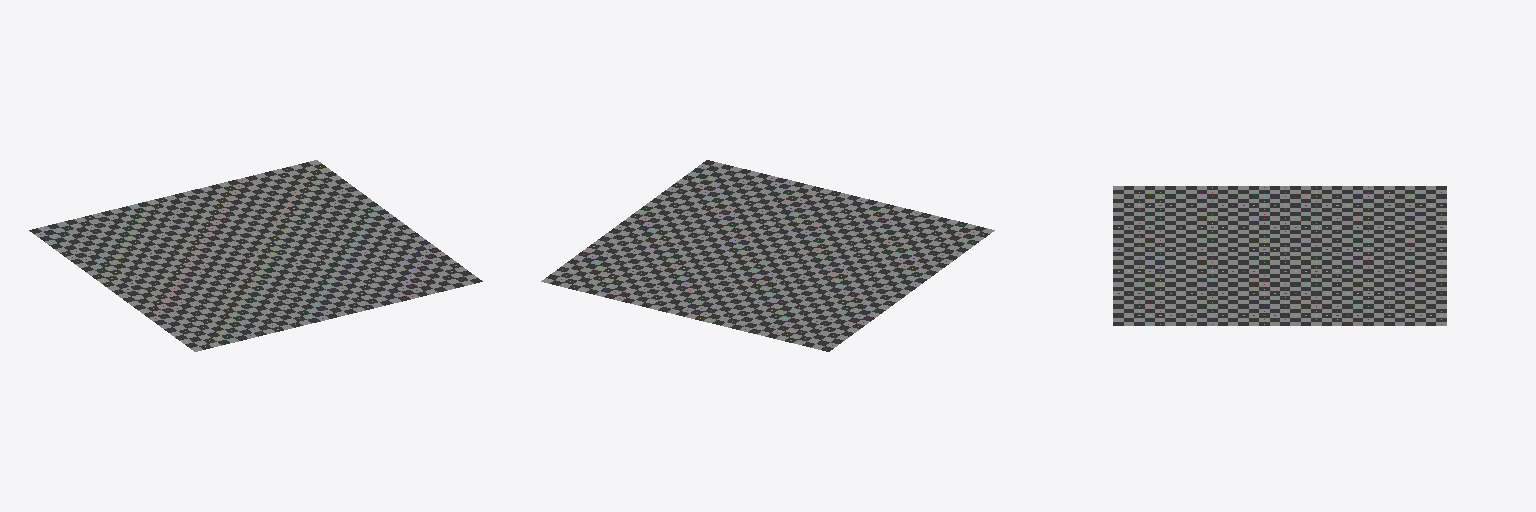
The picture shows the model from 3 angles: view 1: azimuth 30°, elevation 25°; view 2: azimuth 150°, elevation 25°; view 3: azimuth 270°, elevation 25°; orthographic projection.
Parts seen in each view (by area): view 1: Plane; view 2: Plane; view 3: Plane.
Part boxes in pixels (x1,y1,x2,y2): Plane: (29, 160, 482, 351); Plane: (541, 160, 994, 351); Plane: (1113, 186, 1446, 325).
Bounding box in the file's own units: 10 × 0 × 10.
Materials: 1 (1 with a texture image).